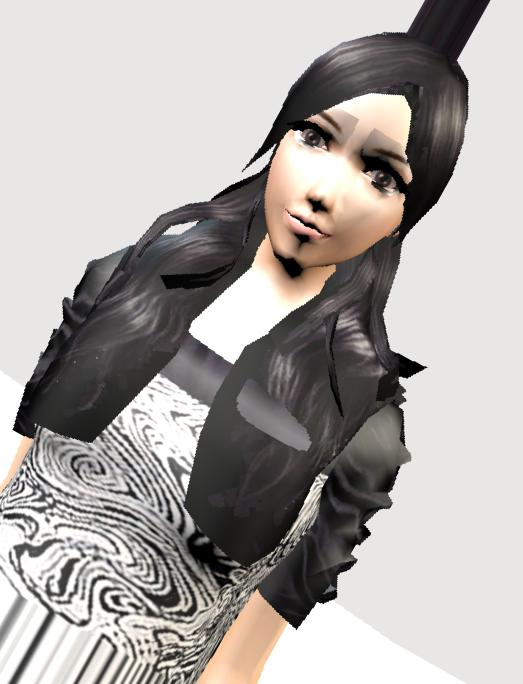clip: (234, 379, 297, 436)
